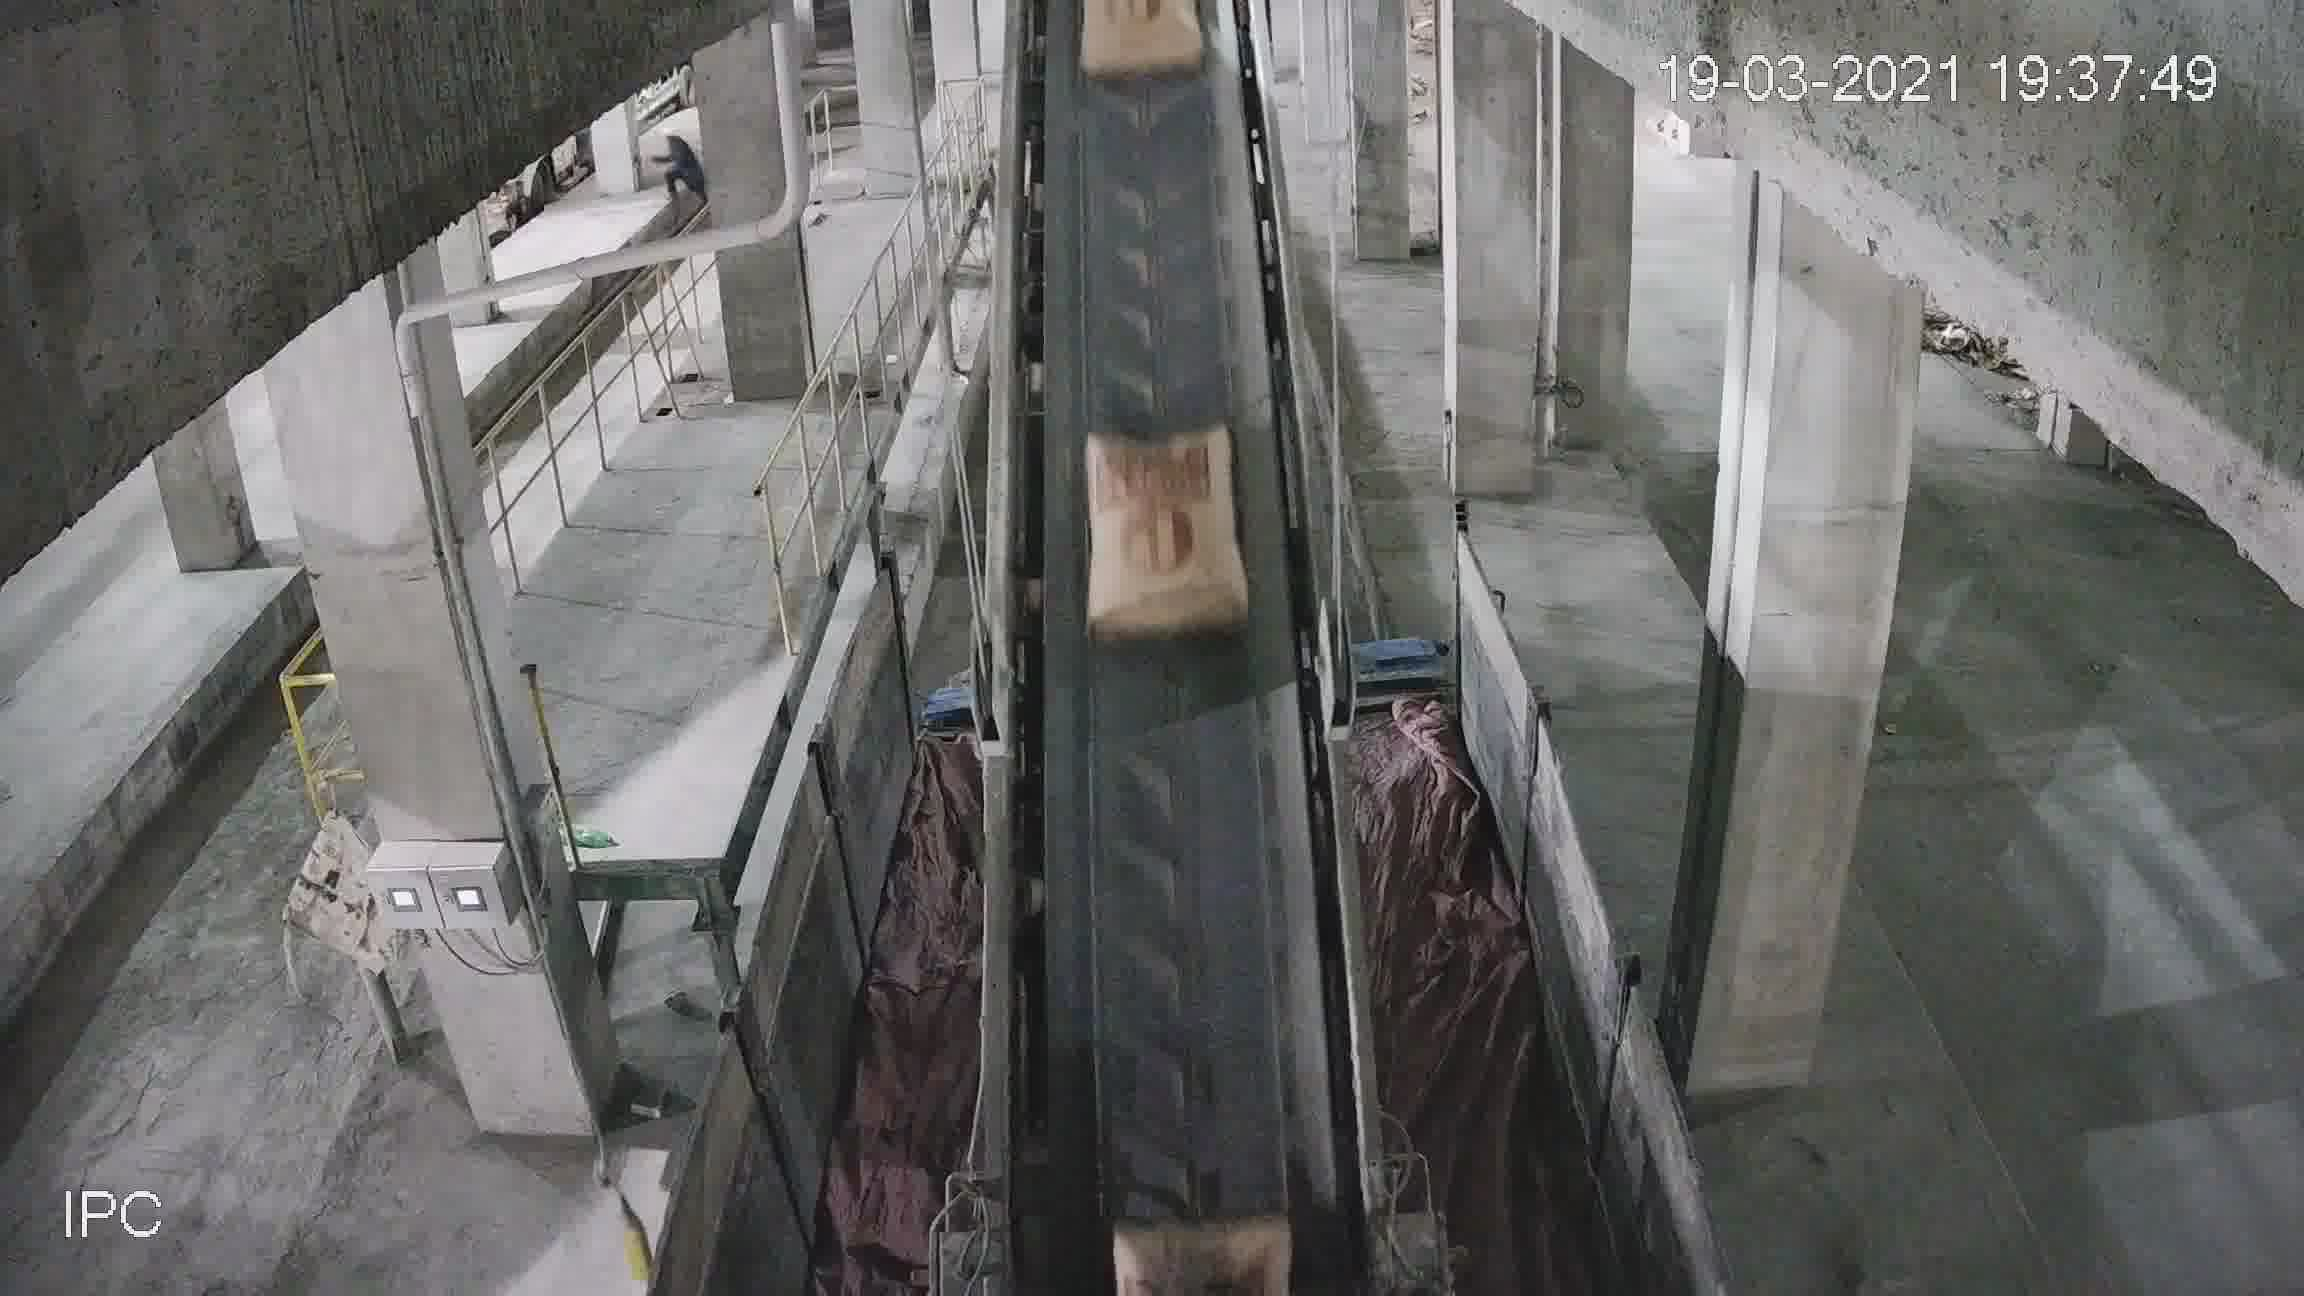bag: (1089, 435, 1241, 635)
belt: (980, 11, 1347, 1171)
